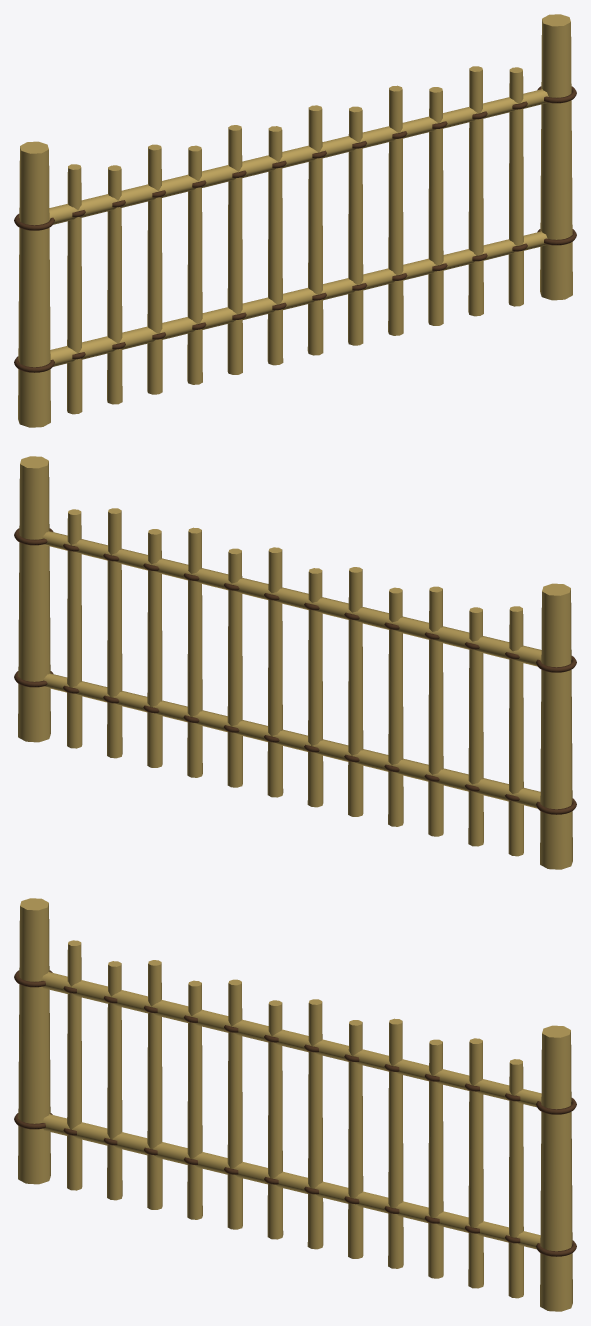
Rendered from LV_HANG_RAO_TRE_01.glb.
3 renders of one model, top to bottom at view 1: azimuth 30°, elevation 25°; view 2: azimuth 150°, elevation 25°; view 3: azimuth 330°, elevation 25°, orthographic.
Parts seen in each view (by area): view 1: LV_HANG_RAO_TRE_01-surface-b59b56, LV_HANG_RAO_TRE_01-surface-50351f; view 2: LV_HANG_RAO_TRE_01-surface-b59b56, LV_HANG_RAO_TRE_01-surface-50351f; view 3: LV_HANG_RAO_TRE_01-surface-b59b56, LV_HANG_RAO_TRE_01-surface-50351f.
Part boxes in pixels (x1,y1,x2,y2): LV_HANG_RAO_TRE_01-surface-b59b56: (18, 14, 572, 427); LV_HANG_RAO_TRE_01-surface-50351f: (14, 86, 576, 372); LV_HANG_RAO_TRE_01-surface-b59b56: (18, 456, 572, 869); LV_HANG_RAO_TRE_01-surface-50351f: (14, 528, 576, 814); LV_HANG_RAO_TRE_01-surface-b59b56: (18, 898, 572, 1311); LV_HANG_RAO_TRE_01-surface-50351f: (14, 970, 576, 1256).
Bounding box in the file's own units: 3.2 × 1.5 × 0.204.
